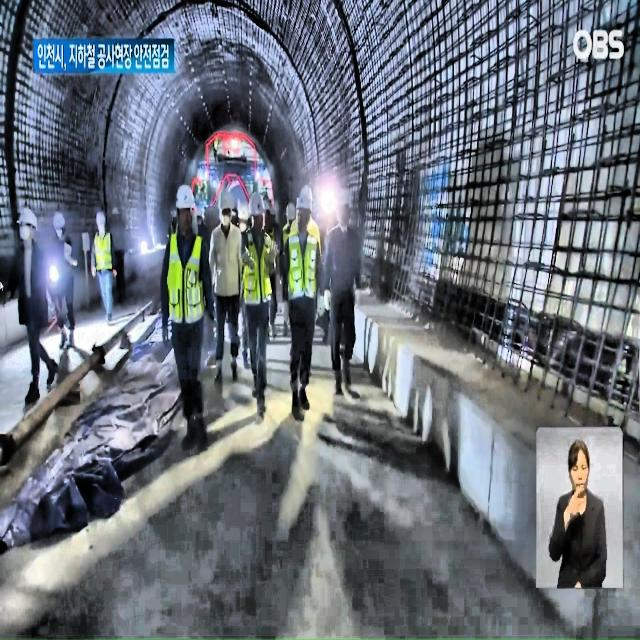safety_helmet: (17, 206, 38, 232), (177, 186, 196, 210), (217, 186, 234, 212), (248, 191, 264, 215), (297, 193, 313, 213), (334, 188, 351, 206), (53, 211, 66, 231), (237, 200, 249, 220), (300, 186, 314, 202), (286, 203, 295, 220), (96, 212, 107, 224), (268, 207, 277, 217), (111, 207, 120, 216), (262, 201, 270, 211), (196, 209, 204, 217), (172, 209, 178, 218)
safety_jacket: (169, 234, 206, 323), (240, 227, 273, 306), (285, 234, 319, 302), (94, 231, 112, 272), (282, 225, 290, 254), (170, 222, 178, 235)
